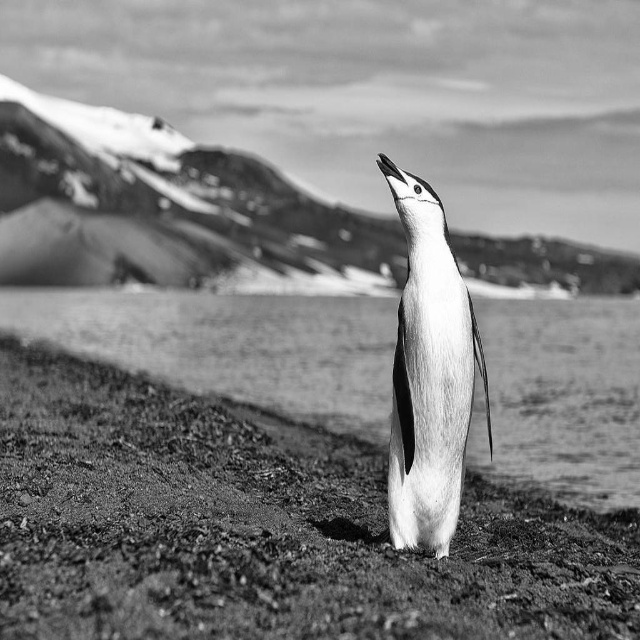Penguin: (378, 153, 494, 563)
